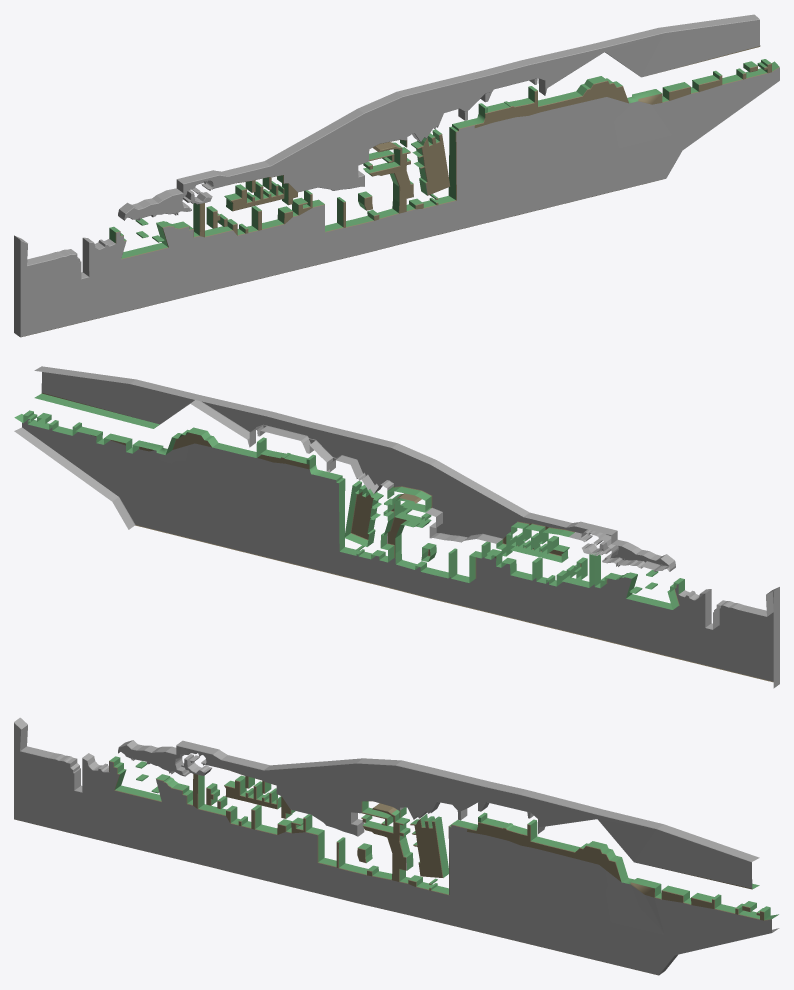
File: Final_Level_Graybox_Phase1.fbx
3 renders of one model, top to bottom at view 1: azimuth 30°, elevation 25°; view 2: azimuth 150°, elevation 25°; view 3: azimuth 330°, elevation 25°, orthographic.
Visible parts, largest first — view 1: tutorialLevel; view 2: tutorialLevel; view 3: tutorialLevel.
Boxes of the visible parts, box(x1,y1,x2,y2) form: tutorialLevel: box(14, 14, 779, 337); tutorialLevel: box(14, 366, 779, 688); tutorialLevel: box(14, 717, 779, 975).
Bounding box in the file's own units: 669 × 125 × 10.2.
